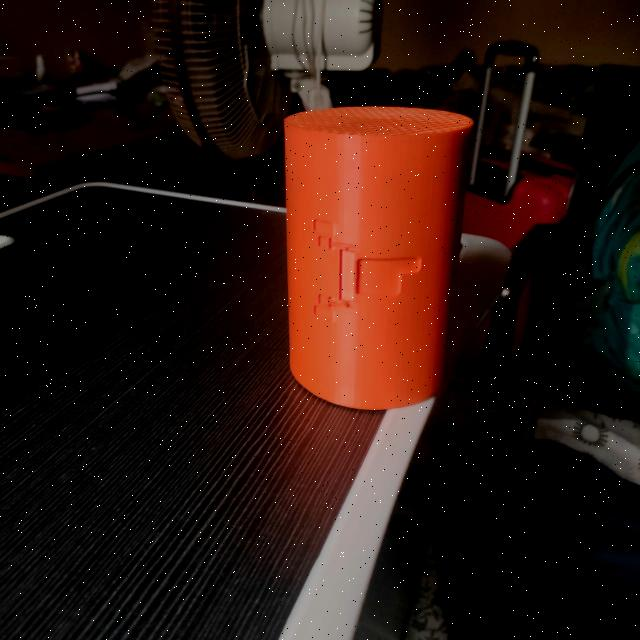Cylinder: (283, 104, 475, 410)
